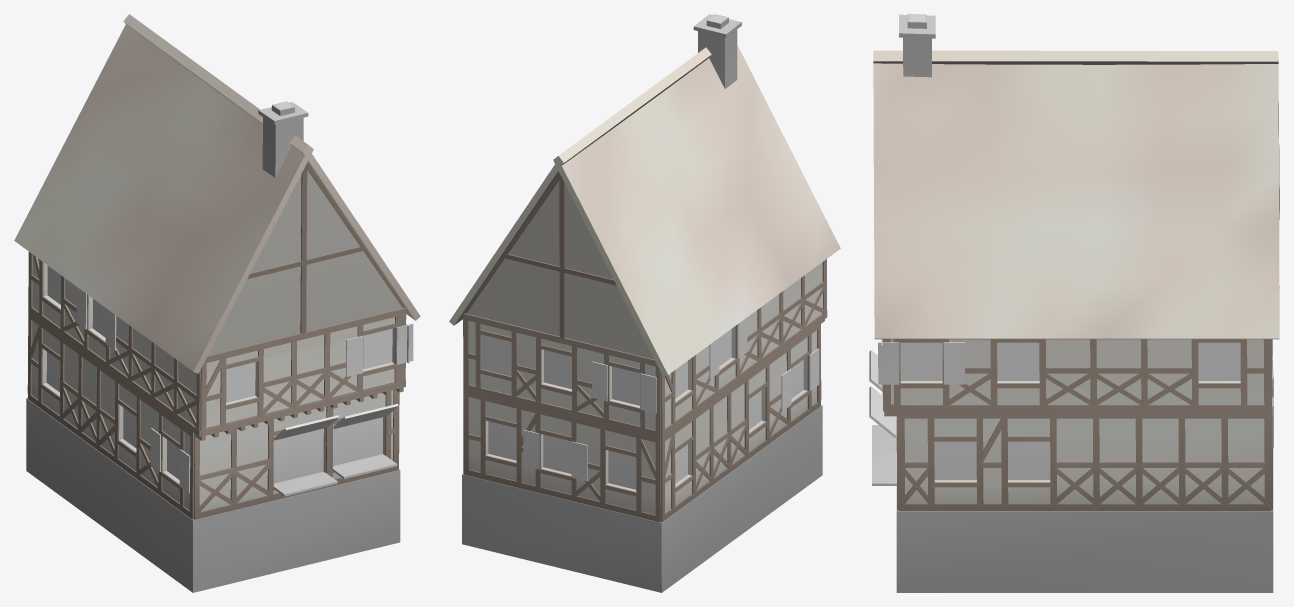
Rendered from townhouse_5.glb.
3 views of the same model, side by side, from view 1: azimuth 30°, elevation 25°; view 2: azimuth 150°, elevation 25°; view 3: azimuth 270°, elevation 25° (orthographic). The views are drawn at different scales.
Visible parts, largest first — view 1: townhouse_5; view 2: townhouse_5; view 3: townhouse_5.
Boxes of the visible parts, x1,y1,x2,y2 form: townhouse_5: (14, 14, 420, 592); townhouse_5: (449, 14, 840, 592); townhouse_5: (869, 14, 1279, 592).
Size of the model in its own units: 7.72 by 14.81 by 10.68.
